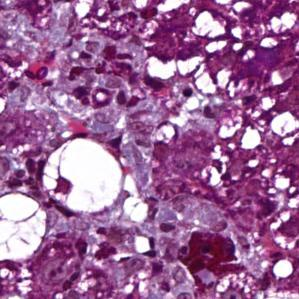ballooning: (42, 136, 125, 217), (0, 191, 49, 266)
